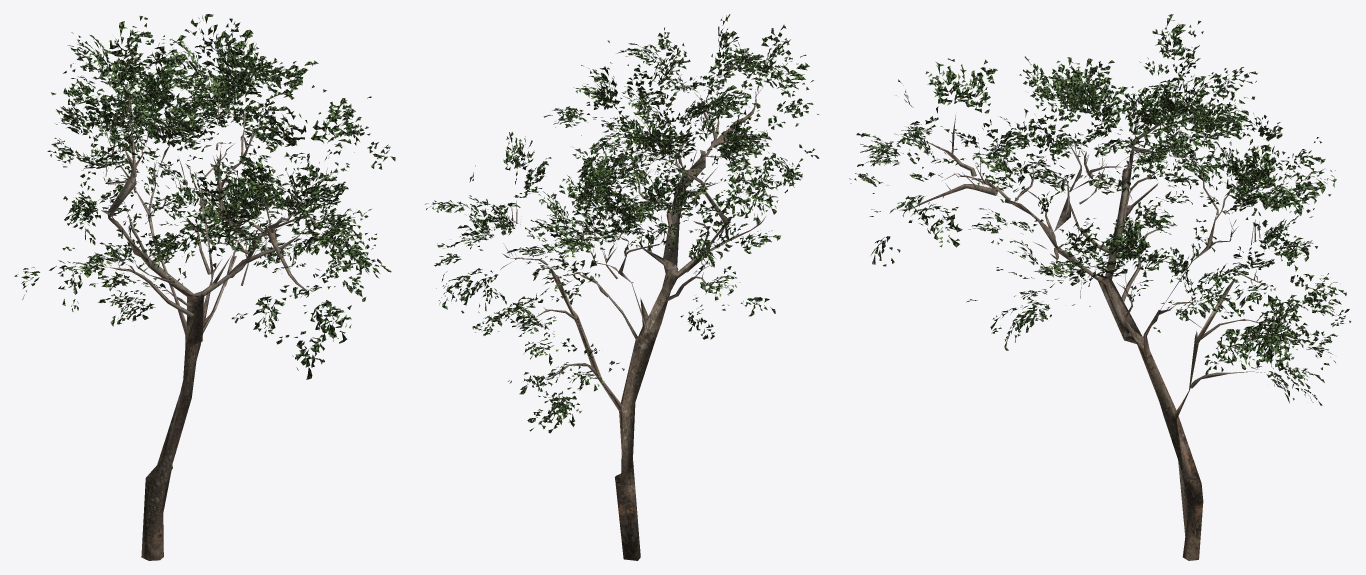
3 renders of one model, left to right at view 1: azimuth 30°, elevation 25°; view 2: azimuth 150°, elevation 25°; view 3: azimuth 270°, elevation 25°, orthographic. The views are drawn at different scales.
Parts seen in each view (by area): view 1: tree_small_02_LOD0; view 2: tree_small_02_LOD0; view 3: tree_small_02_LOD0.
Part boxes in pixels (box(x1,y1,x2,y2)): tree_small_02_LOD0: box(14, 14, 395, 560); tree_small_02_LOD0: box(425, 14, 819, 560); tree_small_02_LOD0: box(849, 14, 1351, 560).
Bounding box in the file's own units: 2.87 × 4.54 × 4.12.
Materials: 3 (3 with a texture image).
